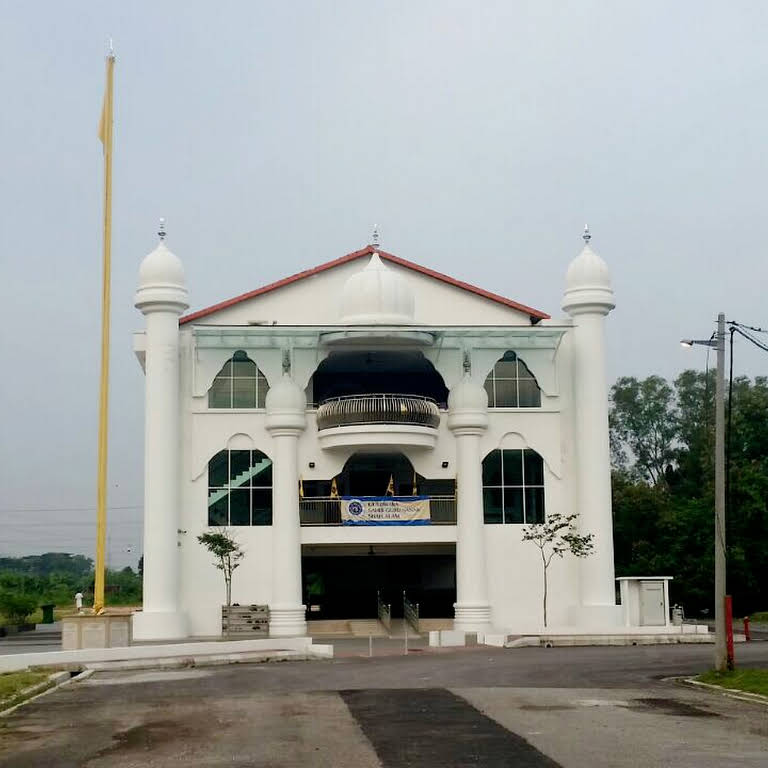Gurdwara: (77, 111, 632, 621)
